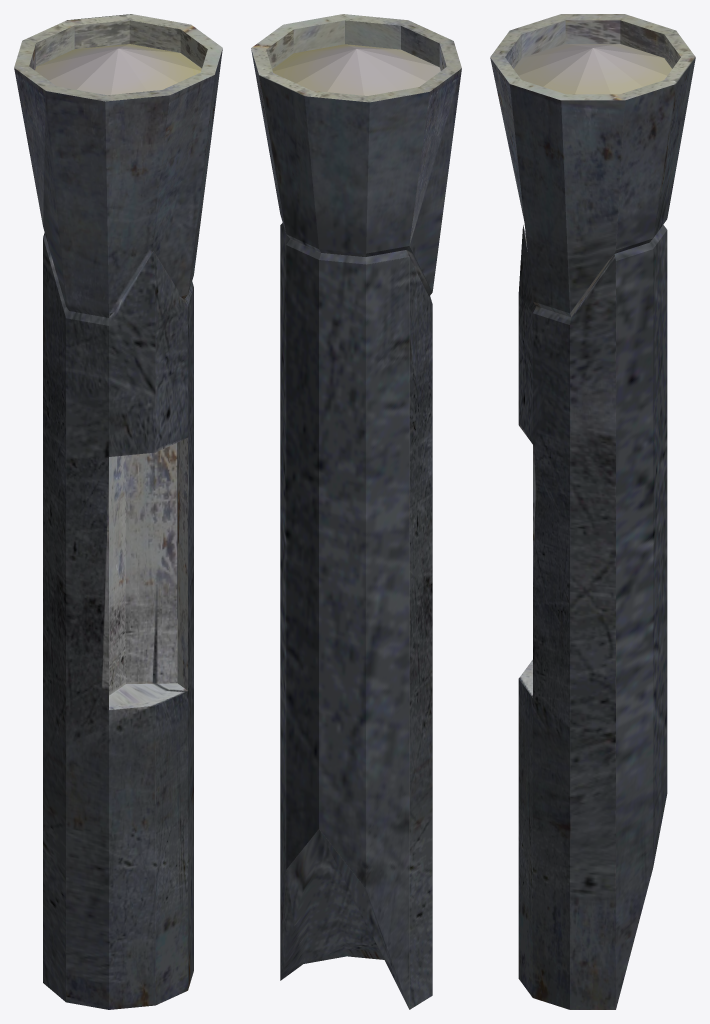
Rendered from Flashlight.fbx.
3 renders of one model, left to right at view 1: azimuth 30°, elevation 25°; view 2: azimuth 150°, elevation 25°; view 3: azimuth 270°, elevation 25°, orthographic.
Visible parts, largest first — view 1: Cylinder; view 2: Cylinder; view 3: Cylinder.
Part boxes in pixels (x1=…): Cylinder: x1=14, y1=14, x2=222, y2=1009; Cylinder: x1=251, y1=14, x2=461, y2=1009; Cylinder: x1=490, y1=14, x2=695, y2=1009.
Bounding box in the file's own units: 10.68 × 53.58 × 10.73.
2 materials, 2 textured.
